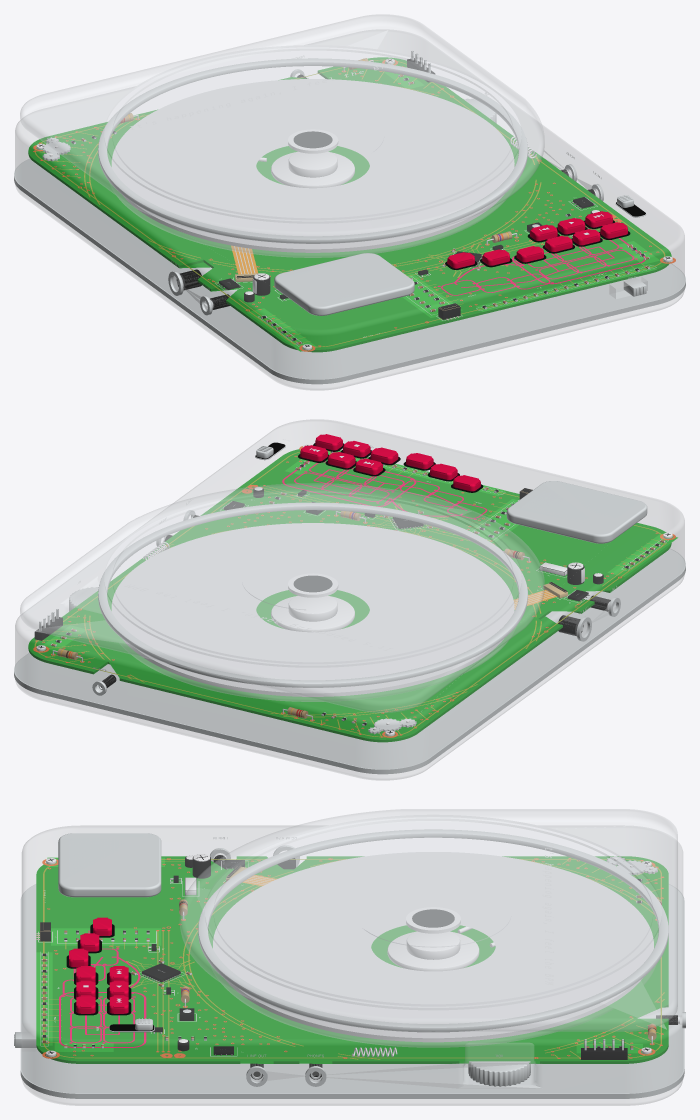
The model's file is cd_player.obj.
3 renders of one model, top to bottom at view 1: azimuth 30°, elevation 25°; view 2: azimuth 150°, elevation 25°; view 3: azimuth 270°, elevation 25°, orthographic. The views are drawn at different scales.
Visible parts, largest first — view 1: Lid, Body, Disc, Mech_PCB, Body_Trim, Deck, Display, Mech_Traces, Mech_Silkscreen, Spindle, Mech_SMD, Mech_LidHardware (+2 smaller); view 2: Lid, Body, Disc, Mech_PCB, Body_Trim, Deck, Display, Mech_Traces, Mech_Silkscreen, Spindle, Mech_LidHardware, Mech_SMD (+3 smaller); view 3: Lid, Body, Disc, Mech_PCB, Body_Trim, Deck, Display, Mech_Traces, Mech_Silkscreen, Spindle, Volume_Wheel, Mech_SMD (+10 smaller).
Part boxes in pixels (bbox=[...]): Lid: bbox=[20, 14, 544, 243]; Body: bbox=[15, 29, 684, 390]; Disc: bbox=[112, 79, 514, 252]; Mech_PCB: bbox=[28, 57, 671, 352]; Body_Trim: bbox=[14, 158, 685, 384]; Deck: bbox=[98, 58, 527, 243]; Display: bbox=[274, 253, 414, 315]; Mech_Traces: bbox=[33, 60, 665, 347]; Mech_Silkscreen: bbox=[33, 60, 675, 351]; Spindle: bbox=[271, 152, 354, 187]; Mech_SMD: bbox=[71, 73, 650, 344]; Mech_LidHardware: bbox=[288, 129, 337, 153]; Lid: bbox=[20, 483, 544, 712]; Body: bbox=[15, 419, 684, 780]; Disc: bbox=[112, 523, 514, 696]; Mech_PCB: bbox=[28, 449, 671, 742]; Body_Trim: bbox=[14, 548, 685, 774]; Deck: bbox=[98, 503, 527, 687]; Display: bbox=[506, 481, 647, 543]; Mech_Traces: bbox=[34, 450, 666, 737]; Mech_Silkscreen: bbox=[33, 446, 677, 737]; Spindle: bbox=[271, 596, 354, 631]; Mech_LidHardware: bbox=[288, 573, 337, 597]; Mech_SMD: bbox=[50, 451, 665, 725]; Lid: bbox=[180, 809, 677, 1031]; Body: bbox=[21, 825, 682, 1105]; Disc: bbox=[213, 852, 653, 1042]; Mech_PCB: bbox=[36, 856, 668, 1063]; Body_Trim: bbox=[20, 884, 684, 1098]; Deck: bbox=[198, 829, 668, 1032]; Display: bbox=[58, 833, 161, 897]; Mech_Traces: bbox=[43, 858, 664, 1059]; Mech_Silkscreen: bbox=[36, 857, 655, 1058]; Spindle: bbox=[387, 931, 478, 970]; Volume_Wheel: bbox=[468, 1061, 530, 1086]; Mech_SMD: bbox=[41, 875, 641, 1049].
Bounding box in the file's own units: 0.1429 × 0.0271 × 0.1828.
